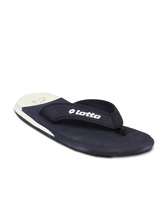shoes: (12, 87, 157, 159)
